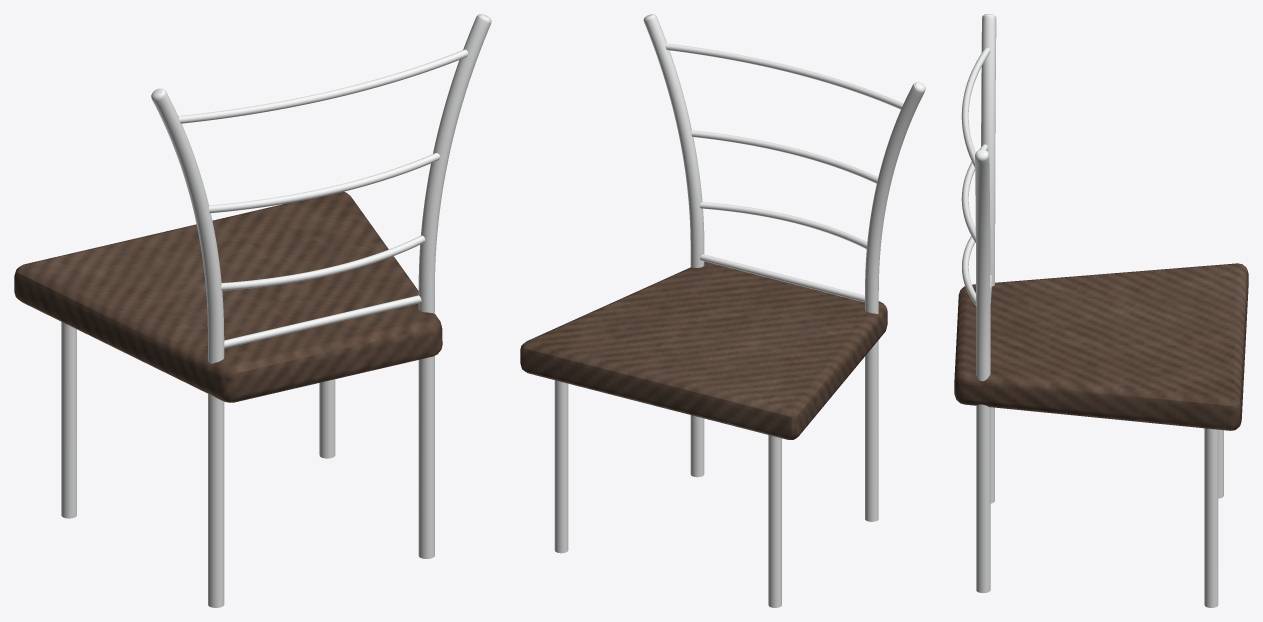
The picture shows the model from 3 angles, left to right: view 1: azimuth 30°, elevation 25°; view 2: azimuth 150°, elevation 25°; view 3: azimuth 270°, elevation 25°; orthographic projection. The views are drawn at different scales.
Visible parts, largest first — view 1: pCube26, pCylinder13, pCylinder12, pCylinder15, pCylinder17, pCylinder18, pCylinder19, pCylinder16, pCylinder14; view 2: pCube26, pCylinder12, pCylinder13, pCylinder14, pCylinder15, pCylinder17, pCylinder18, pCylinder19, pCylinder16; view 3: pCube26, pCylinder13, pCylinder12, pCylinder14, pCylinder17, pCylinder18, pCylinder19, pCylinder15.
Part boxes in pixels (bbox=[...]): pCube26: bbox=[14, 191, 442, 402]; pCylinder13: bbox=[418, 14, 491, 558]; pCylinder12: bbox=[151, 88, 224, 607]; pCylinder15: bbox=[61, 322, 76, 518]; pCylinder17: bbox=[178, 49, 467, 123]; pCylinder18: bbox=[209, 153, 440, 213]; pCylinder19: bbox=[221, 235, 425, 290]; pCylinder16: bbox=[224, 295, 421, 348]; pCylinder14: bbox=[319, 379, 335, 458]; pCube26: bbox=[520, 261, 887, 439]; pCylinder12: bbox=[865, 82, 925, 521]; pCylinder13: bbox=[643, 14, 704, 477]; pCylinder14: bbox=[554, 380, 568, 553]; pCylinder15: bbox=[768, 435, 781, 607]; pCylinder17: bbox=[665, 43, 903, 109]; pCylinder18: bbox=[691, 130, 878, 183]; pCylinder19: bbox=[699, 202, 867, 248]; pCylinder16: bbox=[700, 254, 864, 302]; pCube26: bbox=[954, 263, 1248, 430]; pCylinder13: bbox=[975, 149, 990, 593]; pCylinder12: bbox=[981, 14, 996, 503]; pCylinder14: bbox=[1204, 428, 1218, 607]; pCylinder17: bbox=[961, 47, 990, 167]; pCylinder18: bbox=[961, 144, 988, 242]; pCylinder19: bbox=[962, 236, 975, 305]; pCylinder15: bbox=[1218, 429, 1223, 498].
Size of the model in its own units: 0.6951 by 1.04 by 0.5982.
Materials: 2 (2 with a texture image).
